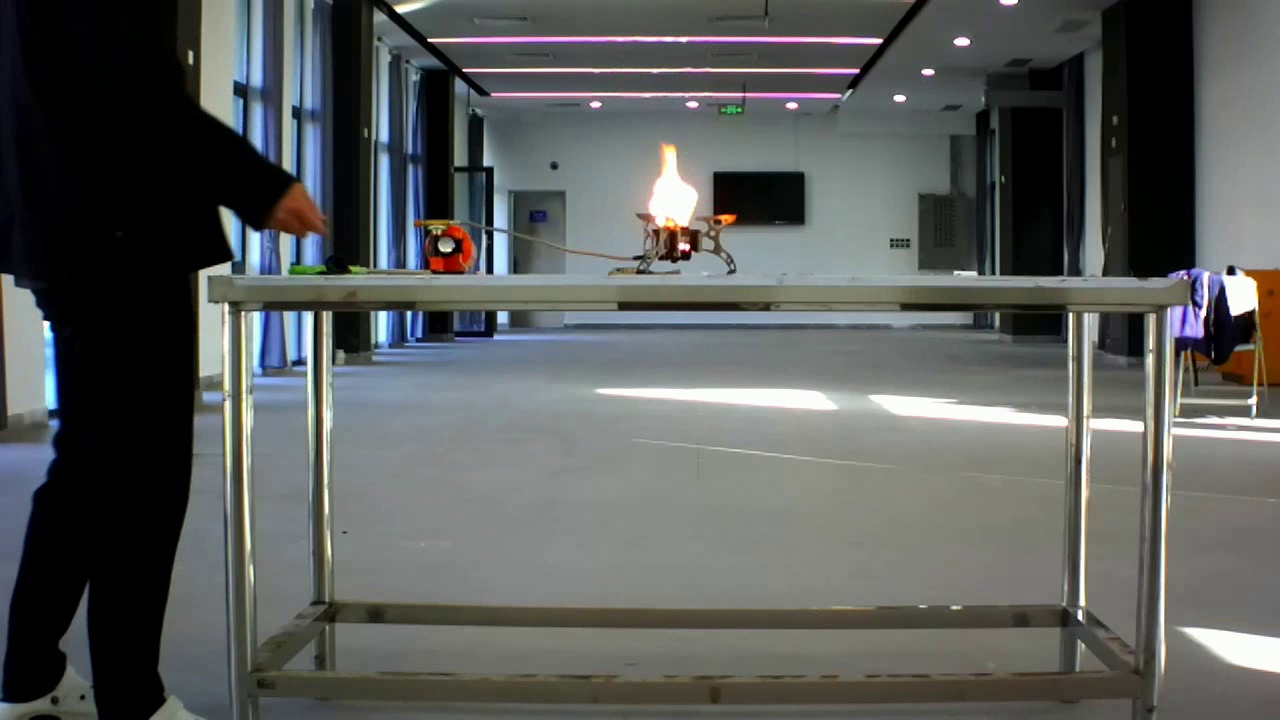Fire: (634, 131, 742, 264)
